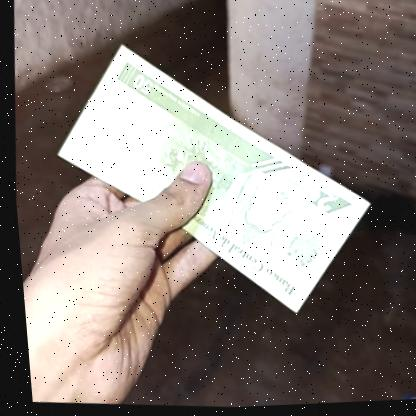fifty-back-vef: (35, 31, 387, 329)
